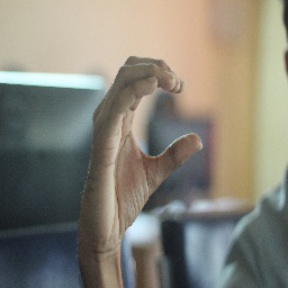C: (99, 52, 209, 173)
